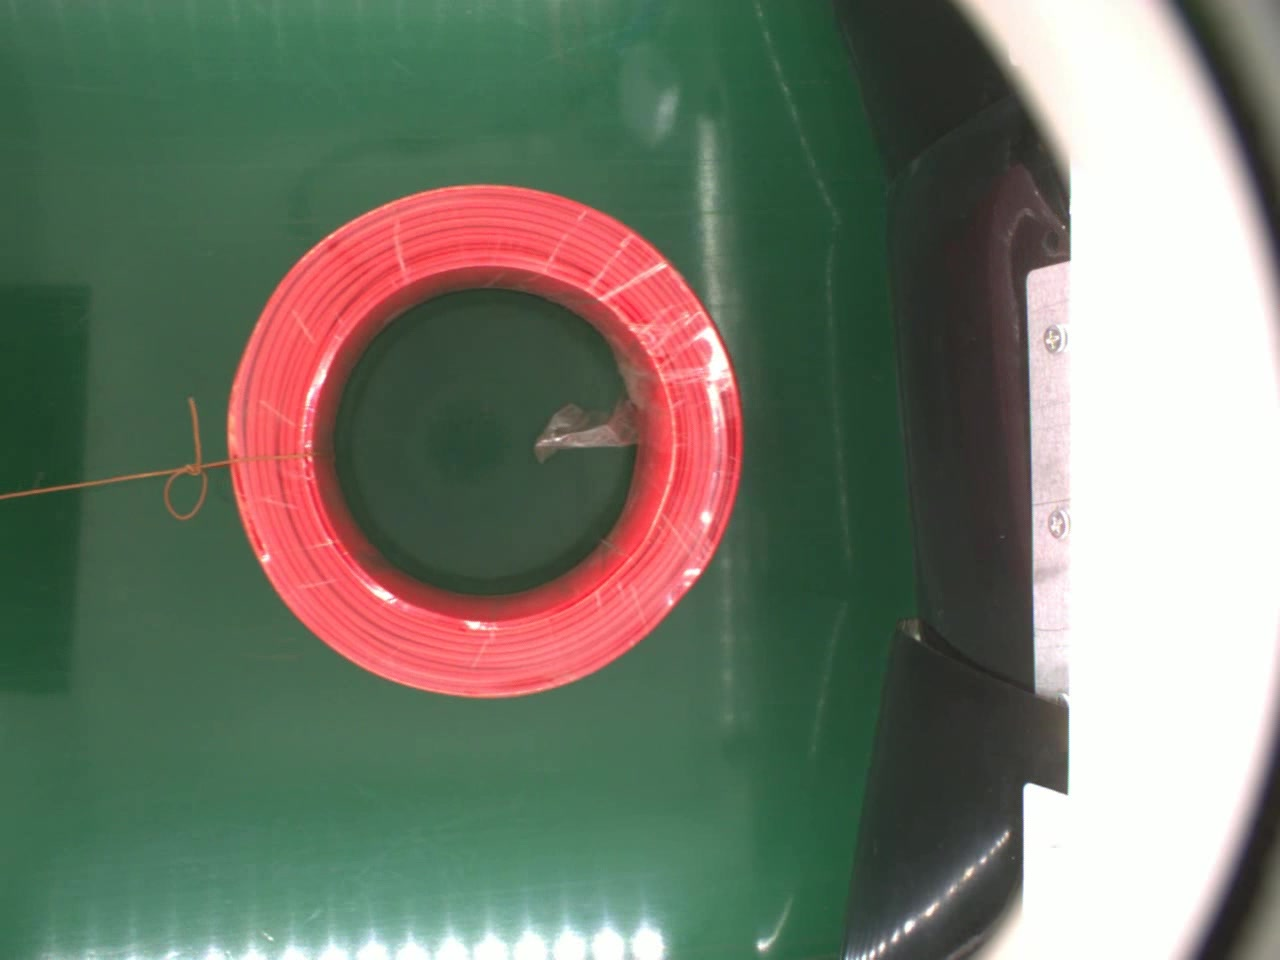red: (225, 177, 745, 706)
